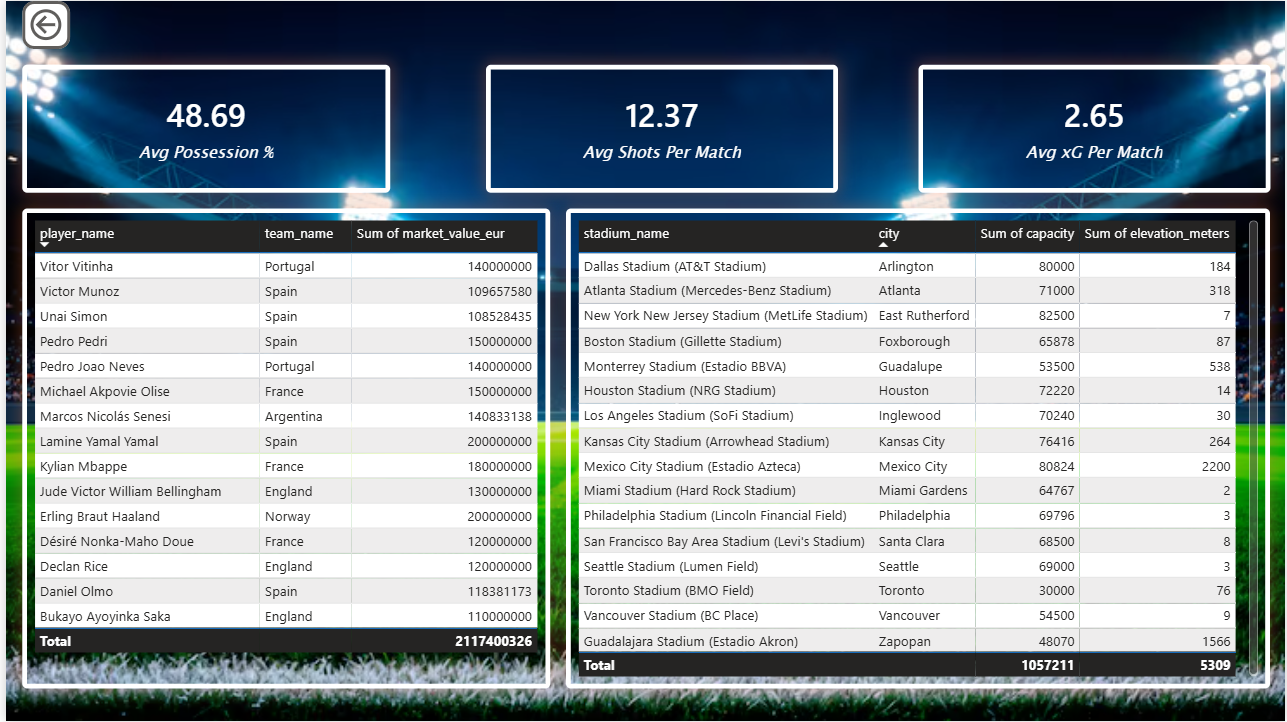

Layout of this report page (visuals, bound fields, positions):
{"tool":"powerbi","page":{"name":"2026 Deep Dive","canvas":[1280,720],"ordinal":6},"visuals":[{"type":"cardVisual","fields":{"Data":["Measure.Avg Possession %"]},"box":[16,64,368,128],"z":0},{"type":"cardVisual","fields":{"Data":["Measure.Avg Shots Per Match"]},"box":[480,64,352,128],"z":1000},{"type":"cardVisual","fields":{"Data":["Measure.Avg xG Per Match"]},"box":[912,64,352,128],"z":2000},{"type":"tableEx","fields":{"Values":["dim_player_2026.player_name","dim_team.team_name","Sum(dim_player_2026.market_value_eur)"]},"box":[16,208,528,480],"z":3000},{"type":"tableEx","fields":{"Values":["dim_venue.stadium_name","dim_venue.city","Sum(dim_venue_2026_attributes.capacity)","Sum(dim_venue_2026_attributes.elevation_meters)"]},"box":[560,208,704,480],"z":4000},{"type":"actionButton","box":[16,0,48,48],"z":4001}]}

Visuals, with their boxes in screenshot pixels (x1, y1, x2, y2), scaled from the page's 1280x720 canvas onto the 1287x722 screenshot:
cardVisual - Measure.Avg Possession %: Rect(16, 64, 386, 193)
cardVisual - Measure.Avg Shots Per Match: Rect(483, 64, 837, 193)
cardVisual - Measure.Avg xG Per Match: Rect(917, 64, 1271, 193)
tableEx - dim_player_2026.player_name x dim_team.team_name: Rect(16, 209, 547, 690)
tableEx - dim_venue.stadium_name x dim_venue.city: Rect(563, 209, 1271, 690)
actionButton: Rect(16, 0, 64, 48)
